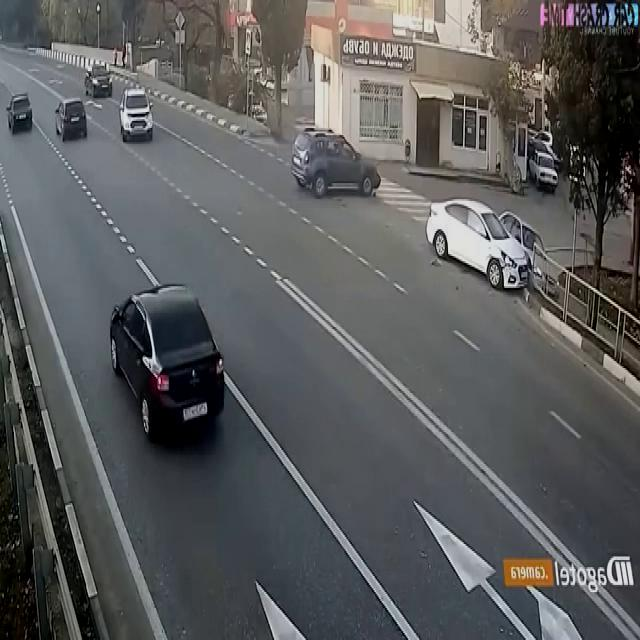accident: (424, 196, 560, 302)
non-accident: (84, 60, 154, 144), (54, 62, 114, 146), (5, 91, 89, 142), (528, 130, 562, 192)
